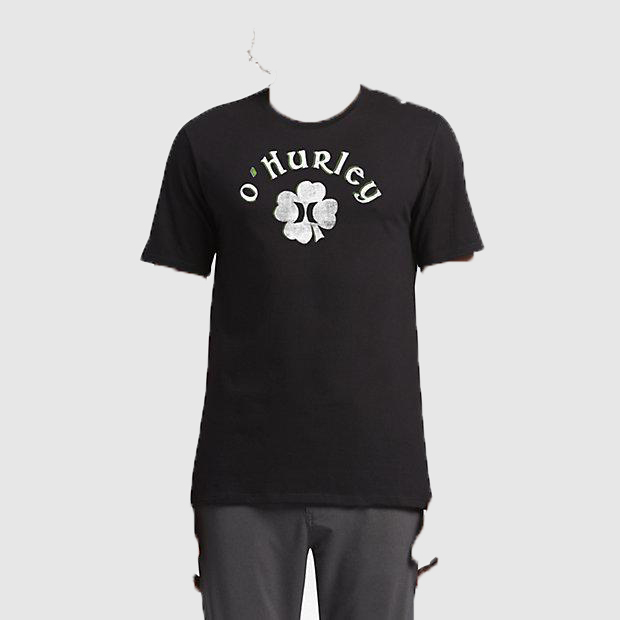teeshirt: (134, 82, 492, 511)
